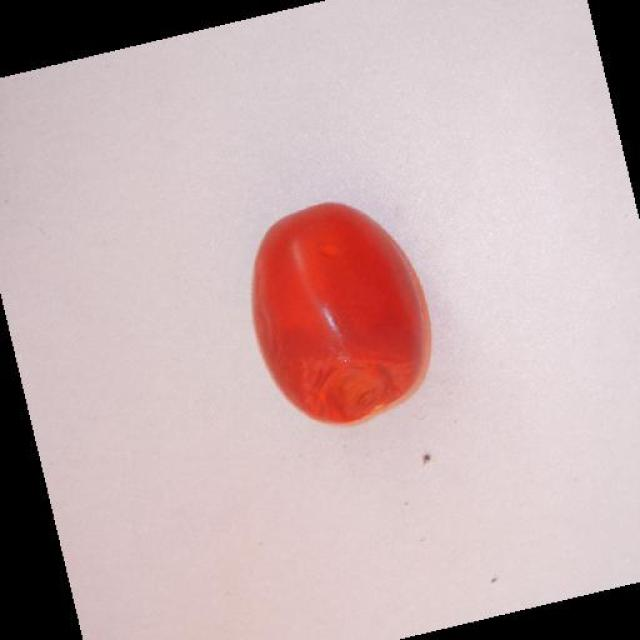Stale_tomato: (241, 204, 427, 418)
